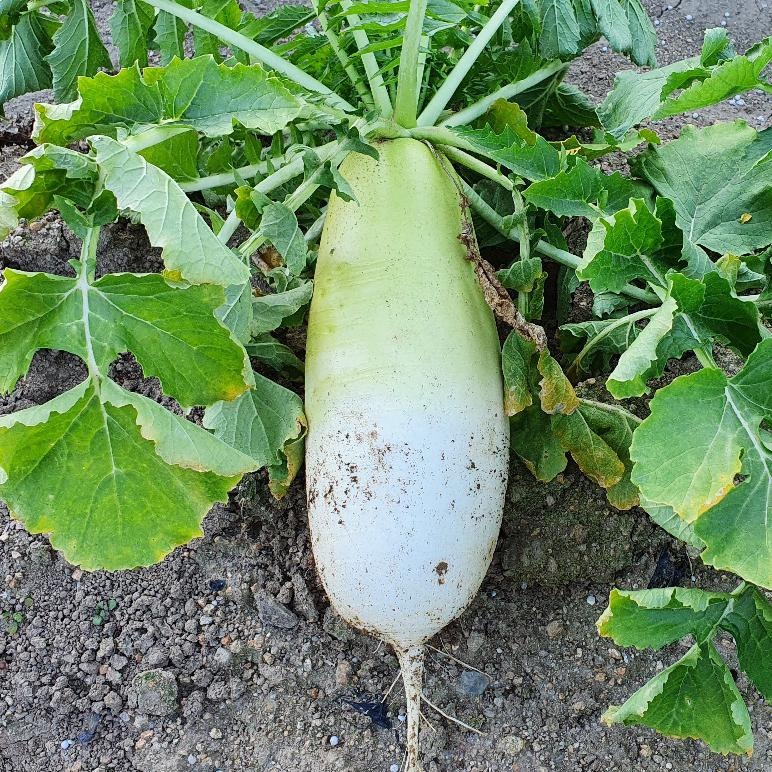radish: (380, 187, 580, 749)
